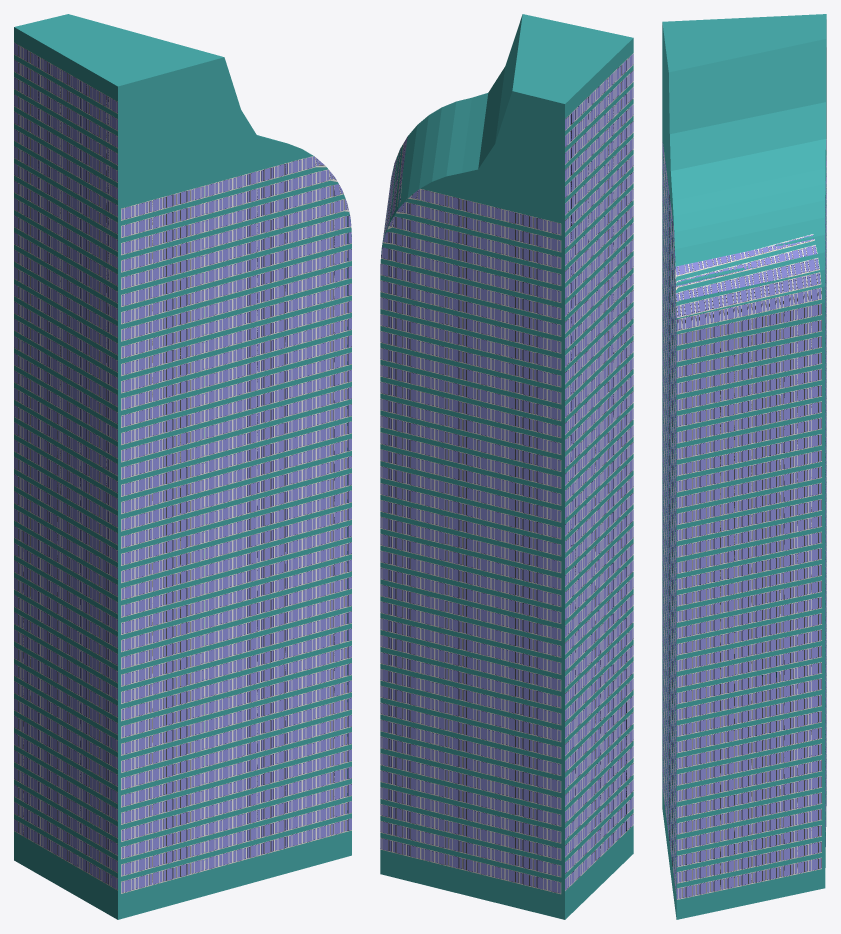
The model's file is HalifaxParkTower.fbx.
3 renders of one model, left to right at view 1: azimuth 30°, elevation 25°; view 2: azimuth 150°, elevation 25°; view 3: azimuth 270°, elevation 25°, orthographic. The views are drawn at different scales.
Visible parts, largest first — view 1: Window.002, HalifaxParkTower, Window.001; view 2: Window, HalifaxParkTower, Window.001, Window.003; view 3: HalifaxParkTower, Window.003, Window.002, Window.
Part boxes in pixels (box(x1,y1,x2,y2)): Window.002: box(121, 156, 351, 893); HalifaxParkTower: box(14, 14, 351, 919); Window.001: box(14, 42, 117, 890); Window: box(380, 188, 561, 894); HalifaxParkTower: box(380, 14, 633, 919); Window.001: box(565, 53, 633, 890); Window.003: box(382, 137, 407, 245); HalifaxParkTower: box(662, 14, 826, 919); Window.003: box(675, 234, 821, 899); Window.002: box(662, 142, 676, 893); Window: box(825, 139, 826, 847).
Size of the model in its own units: 4477 by 13793 by 2609.
